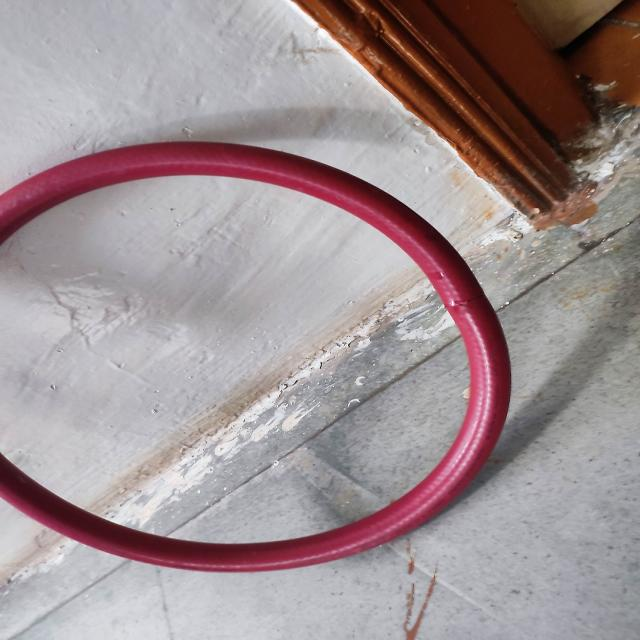daire: (1, 141, 503, 571)
